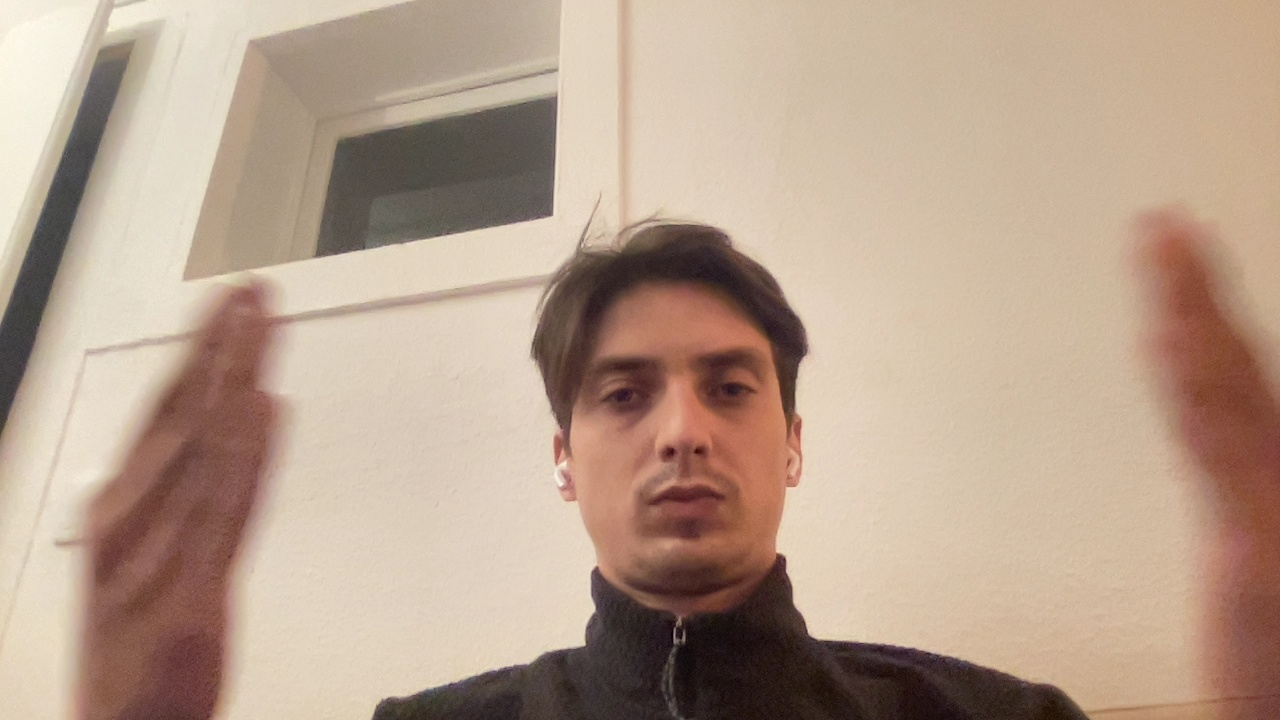Thank you: (25, 190, 325, 720), (1036, 172, 1280, 720)
